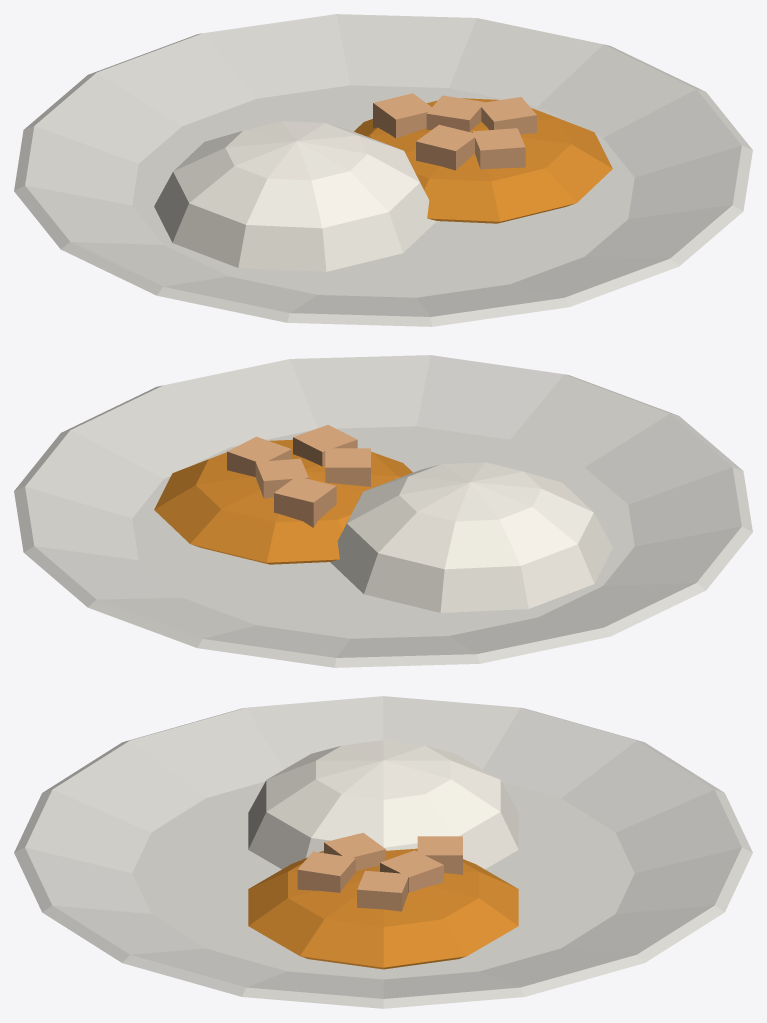
The model's file is m-curry.glb.
3 views of the same model, one above another, from view 1: azimuth 30°, elevation 25°; view 2: azimuth 150°, elevation 25°; view 3: azimuth 270°, elevation 25° (orthographic).
Parts seen in each view (by area): view 1: m_curry; view 2: m_curry; view 3: m_curry.
Boxes of the visible parts, x1=… form: m_curry: x1=14, y1=14, x2=752, y2=326; m_curry: x1=14, y1=355, x2=752, y2=667; m_curry: x1=14, y1=696, x2=752, y2=1008.
Bounding box in the file's own units: 0.26 × 0.0395 × 0.26.
